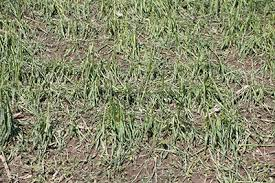damaged_wheat: (112, 3, 239, 136), (9, 104, 97, 181), (9, 5, 85, 69)
